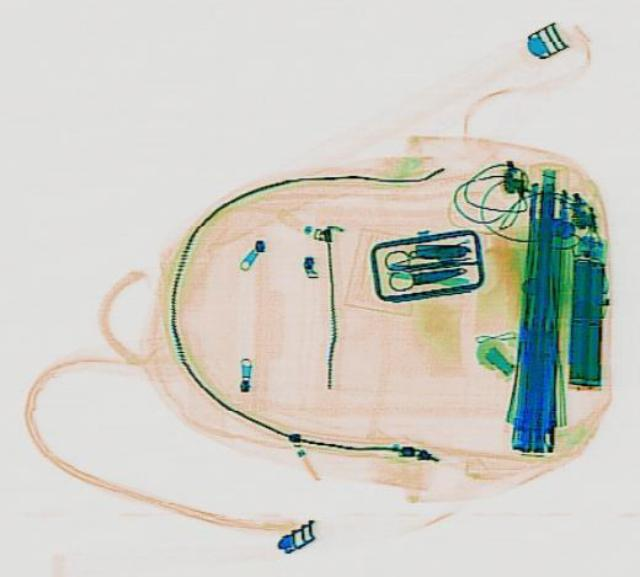Scissors: (379, 241, 456, 290)
